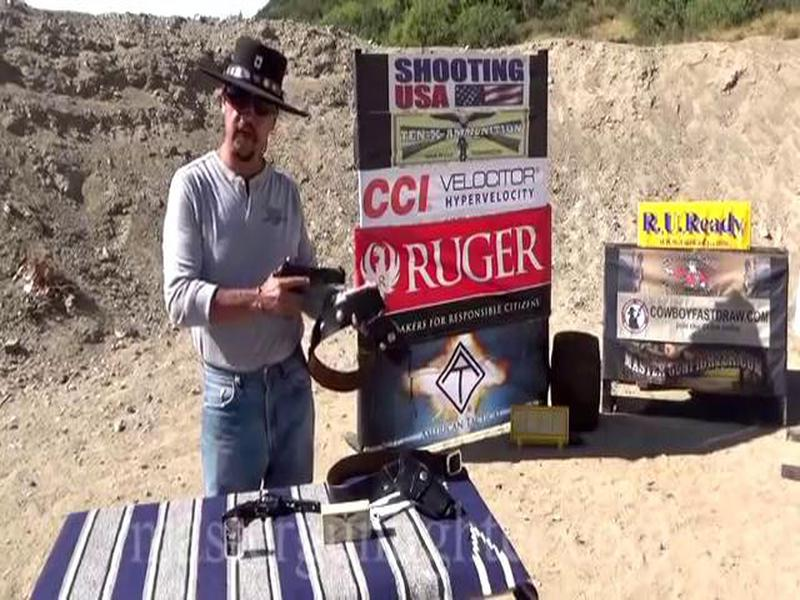Pistola: (248, 248, 355, 324)
